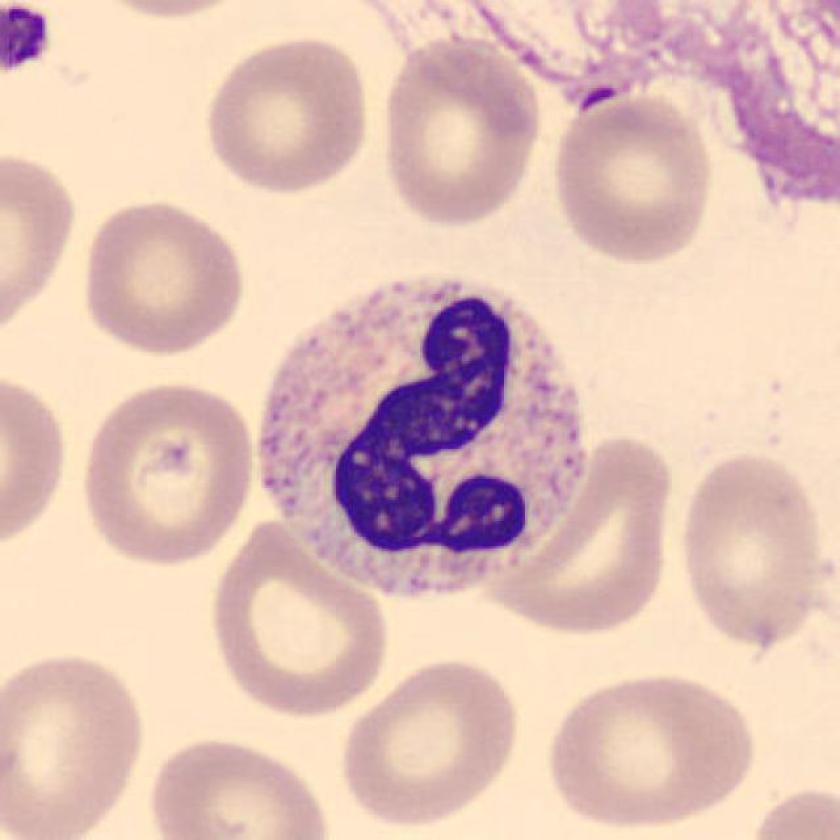neutrophil: (258, 283, 584, 598)
